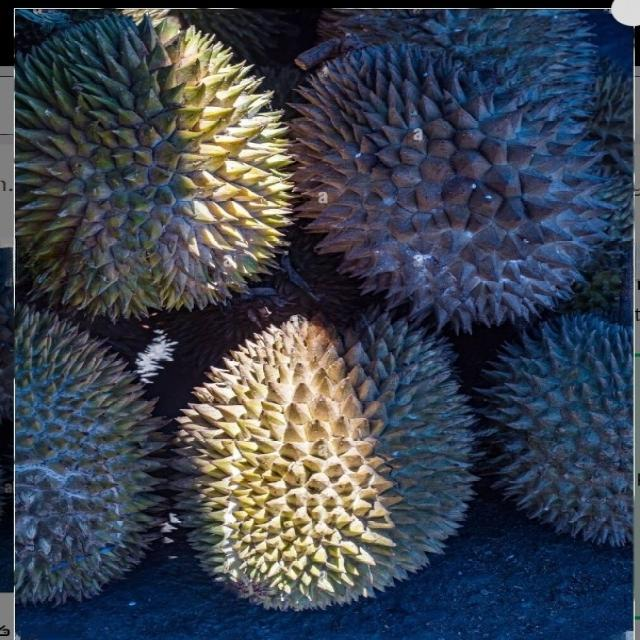defective: (172, 308, 484, 612)
